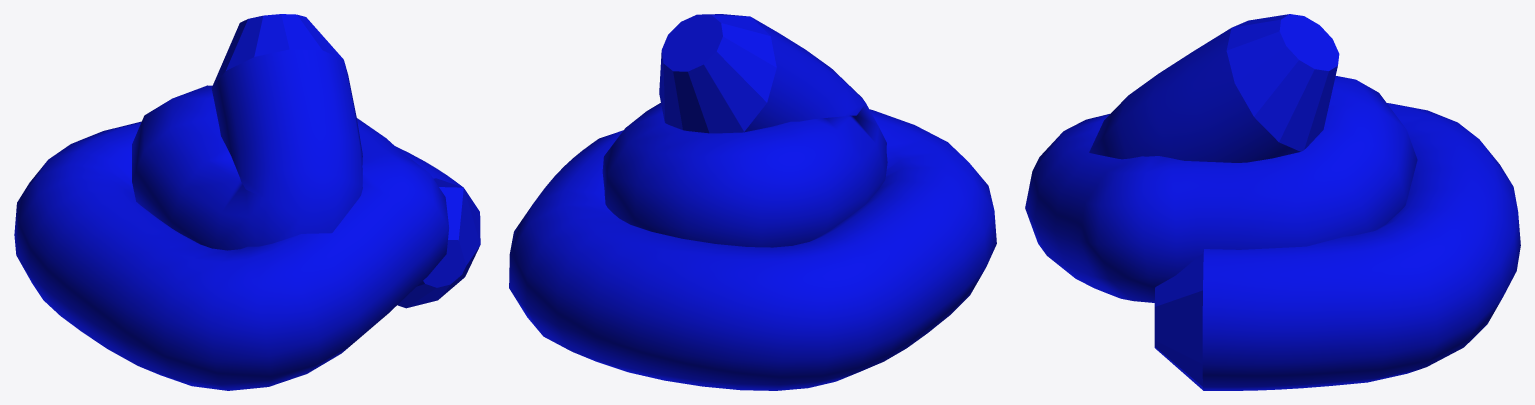
File: poo_model.FBX
The picture shows the model from 3 angles, left to right: view 1: azimuth 30°, elevation 25°; view 2: azimuth 150°, elevation 25°; view 3: azimuth 270°, elevation 25°; orthographic projection. The views are drawn at different scales.
Visible parts, largest first — view 1: Line001; view 2: Line001; view 3: Line001.
Boxes of the visible parts, x1,y1,x2,y2 form: Line001: (14, 14, 480, 390); Line001: (509, 14, 996, 390); Line001: (1025, 14, 1520, 390).
Size of the model in its own units: 20.96 by 15.18 by 22.06.
